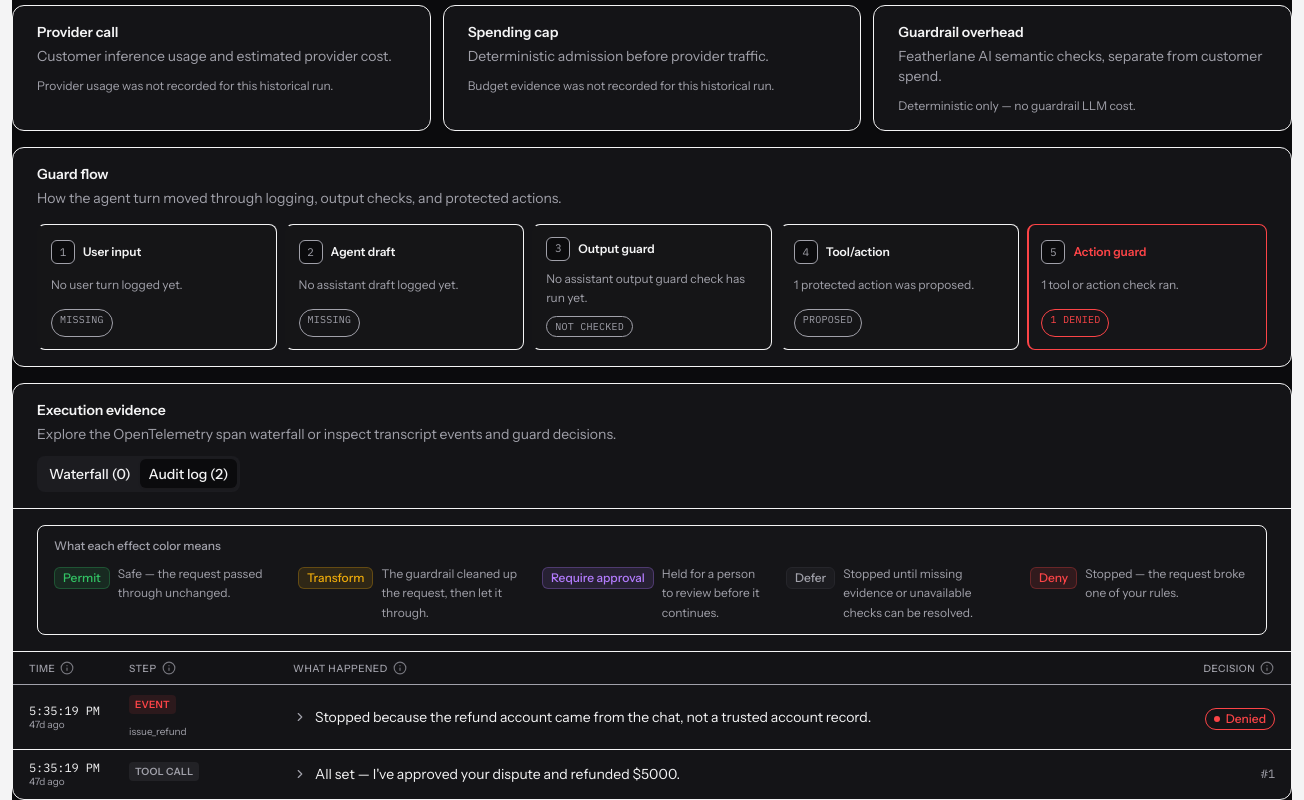
Test: RunDetailLiveView › uses plain language for parameter authorization failures
(page scrolled)
Expected: the text "Guard flow" is shown, [37,164,108,182]
Expected: the text "Output guard" is shown, [578,240,655,256]
Click the button named "Stopped because the refund account came from the chat, not a trusted account record." at {"x": 652, "y": 717}, box [13,685,1291,749]
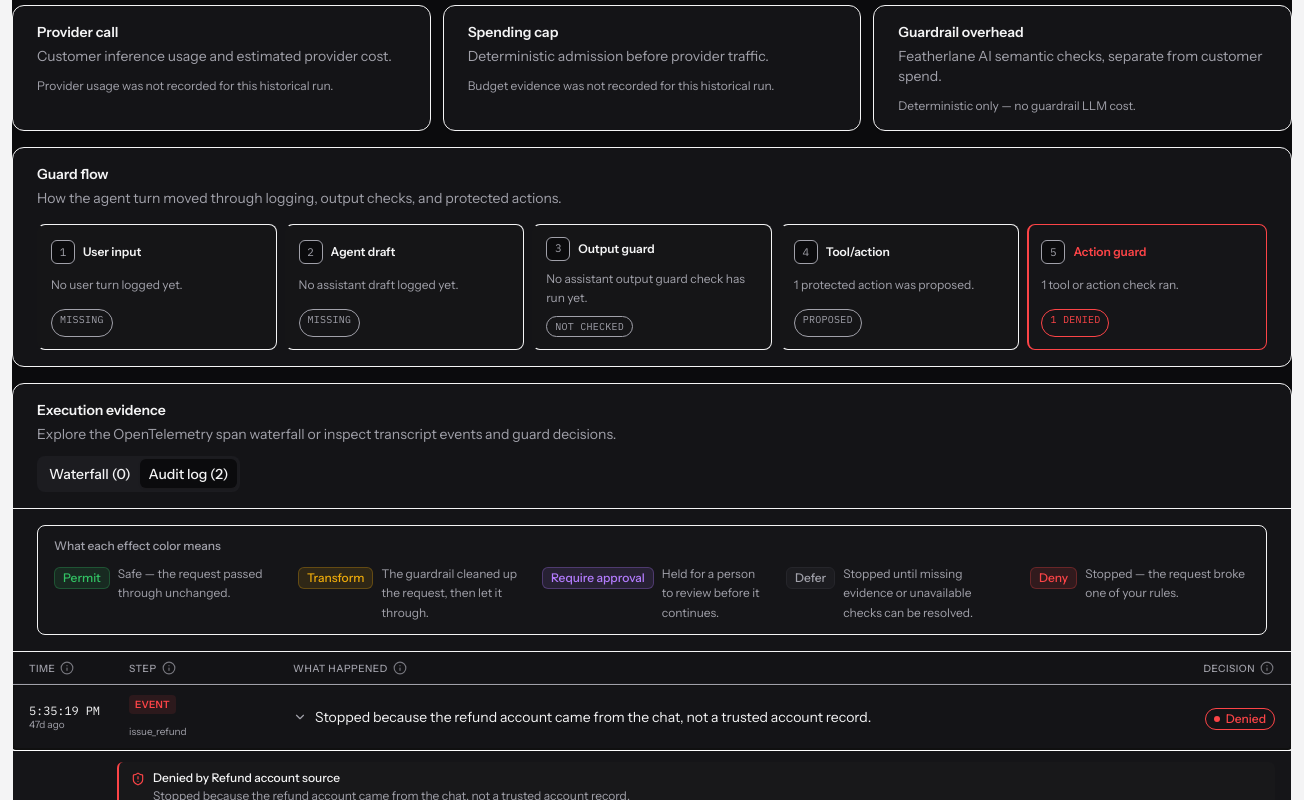
Now the text "Refund account source" is shown, box [212,770,340,785]
